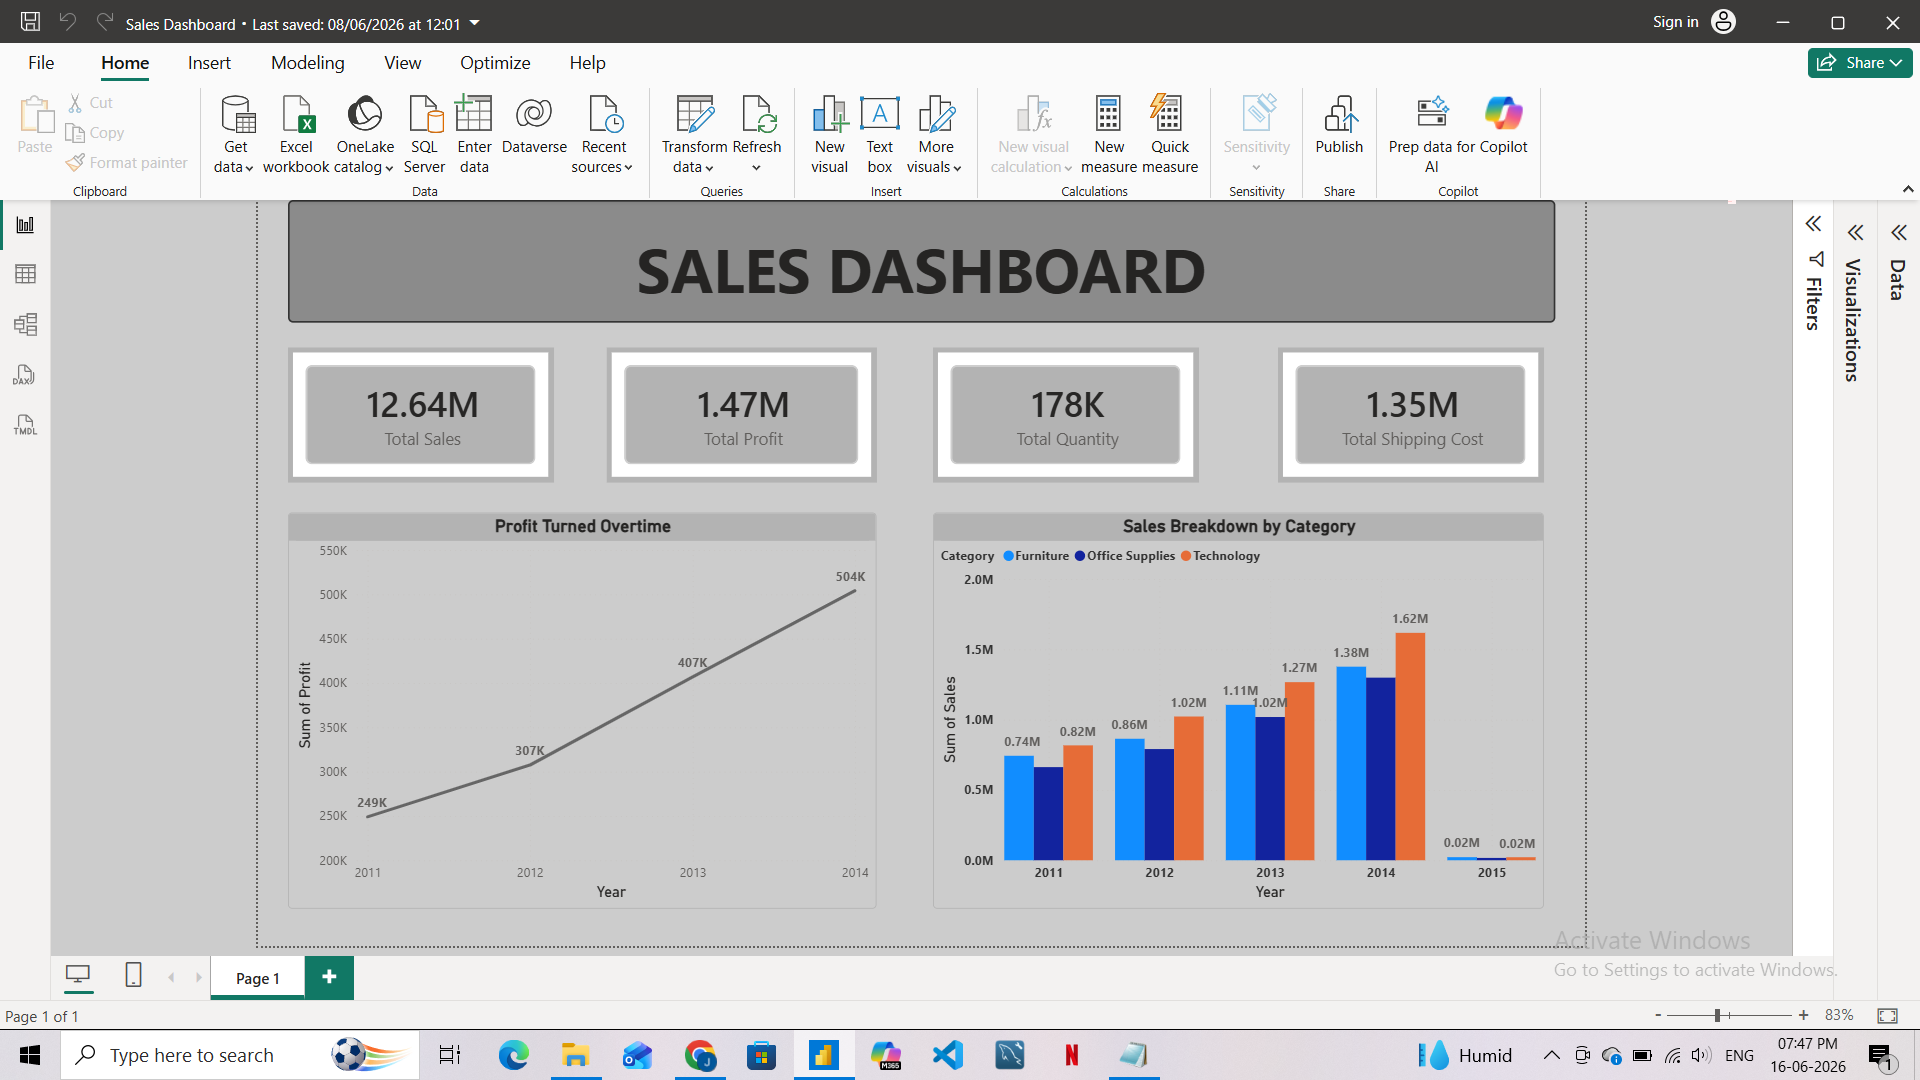

Layout of this report page (visuals, bound fields, positions):
{"tool":"powerbi","page":{"name":"Page 1","canvas":[1280,720],"ordinal":0},"visuals":[{"type":"textbox","box":[29.3,0,1223.1,118.5],"z":0},{"type":"cardVisual","fields":{"Data":["Orders.Sum of sales"]},"box":[29,142.4,257,130.3],"z":1000},{"type":"cardVisual","title":"Average Profit","fields":{"Data":["Orders.Sum of Profit"]},"box":[336.6,142.4,260.6,130.3],"z":2000},{"type":"cardVisual","fields":{"Data":["Sum(Orders.Quantity)"]},"box":[651.5,142.4,257,130.3],"z":2001},{"type":"cardVisual","fields":{"Data":["Orders.Sum of Shipping Cost"]},"box":[984.5,142.4,257,130.3],"z":2002},{"type":"lineChart","title":"Profit Turned Overtime","fields":{"Category":["Orders.Order Date.Variation.Date Hierarchy.Year","Orders.Order Date.Variation.Date Hierarchy.Quarter","Orders.Order Date.Variation.Date Hierarchy.Month","Orders.Order Date.Variation.Date Hierarchy.Day"],"Y":["Sum(Orders.Profit)"]},"box":[29,301.6,568.2,382.4],"z":2003},{"type":"clusteredColumnChart","title":"Sales Breakdown by Category","fields":{"Category":["Orders.Ship Date.Variation.Date Hierarchy.Year"],"Series":["Orders.Category"],"Y":["Sum(Orders.Sales)"]},"box":[651.5,301.6,589.9,382.4],"z":2004}]}

Visuals, with their boxes on the page's 1280x720 design canvas (x1, y1, x2, y2). These are canvas units, not pixel positions in the 1920x1080 screenshot, which may show the page scaled, cropped or inside an application window:
textbox: x1=29, y1=0, x2=1252, y2=118
cardVisual - Orders.Sum of sales: x1=29, y1=142, x2=286, y2=273
"Average Profit" cardVisual: x1=337, y1=142, x2=597, y2=273
cardVisual - Sum(Orders.Quantity): x1=652, y1=142, x2=908, y2=273
cardVisual - Orders.Sum of Shipping Cost: x1=984, y1=142, x2=1242, y2=273
"Profit Turned Overtime" lineChart: x1=29, y1=302, x2=597, y2=684
"Sales Breakdown by Category" clusteredColumnChart: x1=652, y1=302, x2=1241, y2=684
